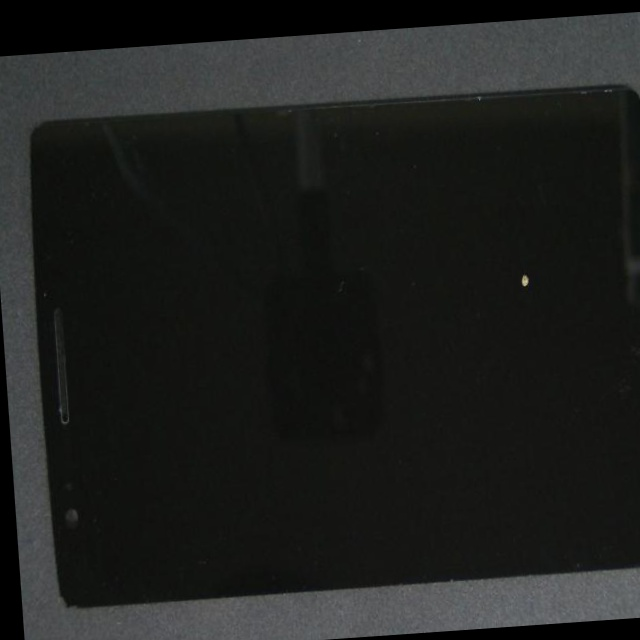stain: (276, 195, 640, 452)
